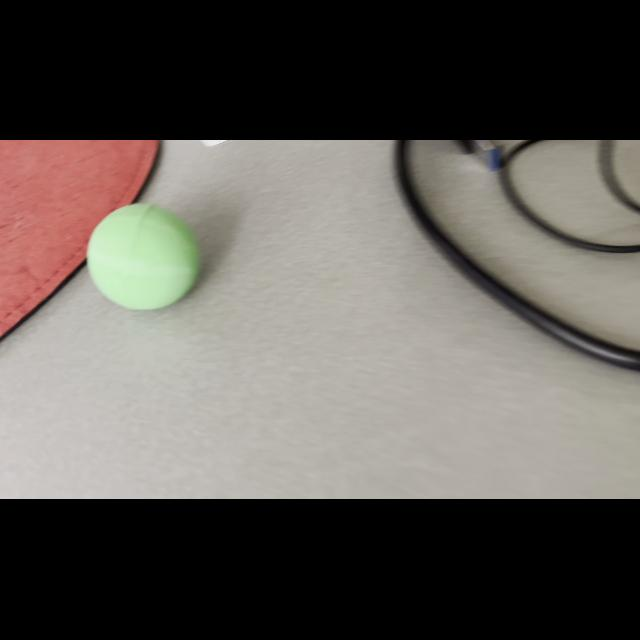objects: (81, 194, 211, 316)
